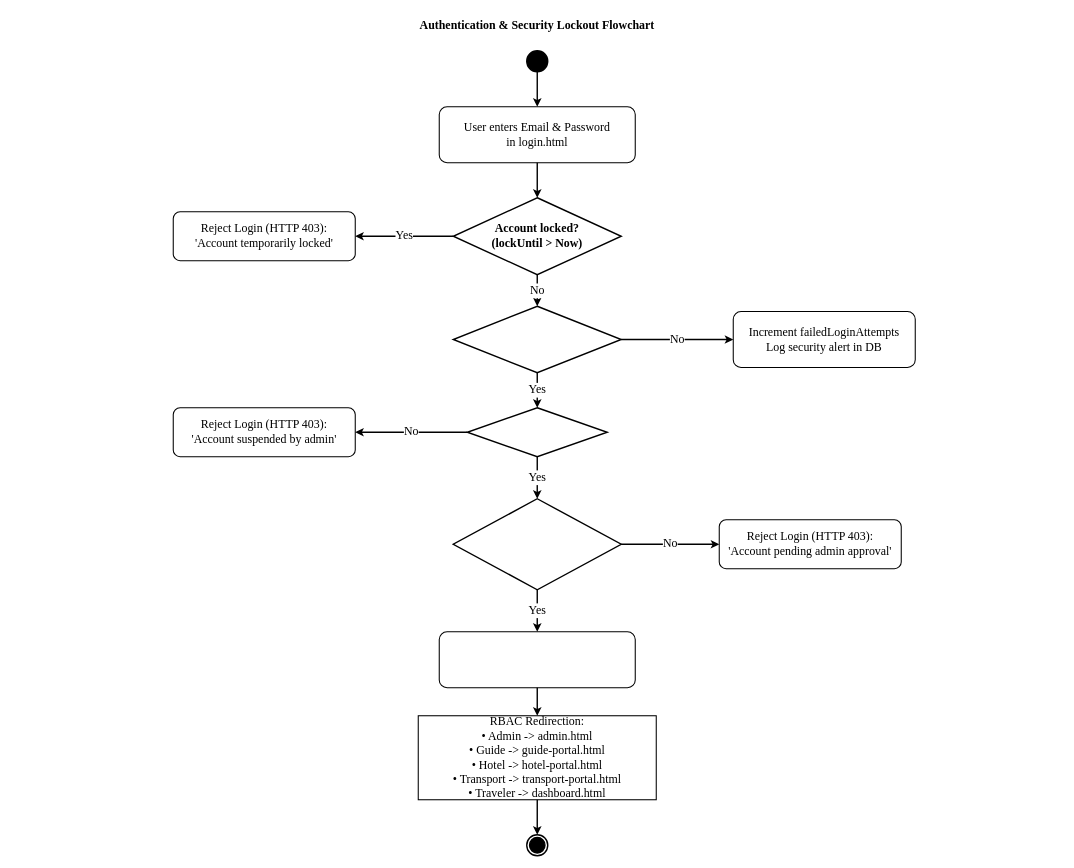
The diagram is 1074 pixels wide and 868 high, and some of its shapes have lost their labels. The centre of each missing label's shape, as x and y in pixels:
"Account isActive == true?" belongs at (x=537, y=432).
"Email exists & Password matches?" belongs at (x=537, y=339).
"For Partners: isApproved == true?" belongs at (x=537, y=544).
"Reset failedLoginAttempts=0 Store session in sessionStorage" belongs at (x=536, y=659).
